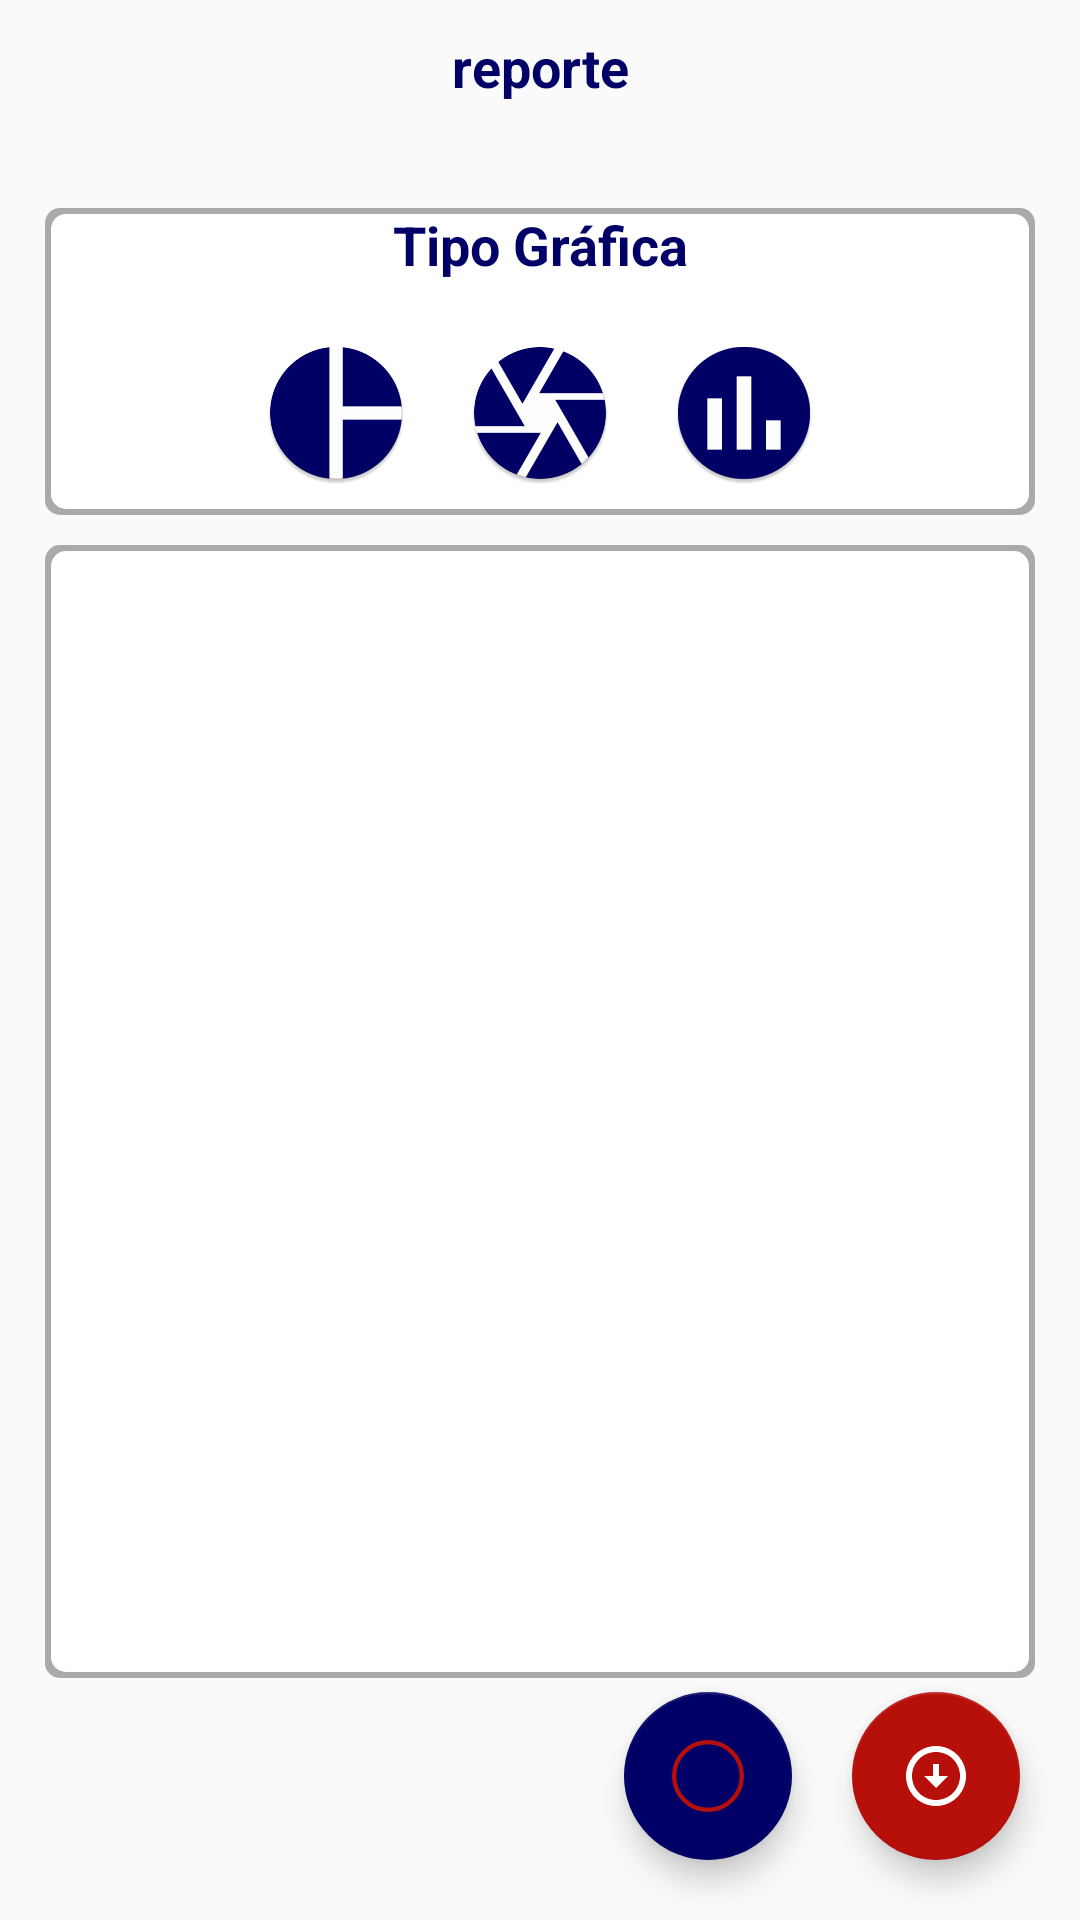

Screen size 1080 × 1920. Icon name, then its box in pixels as (x1, y1, x2, y2):
bar: (678, 347, 811, 482)
pie: (270, 347, 403, 482)
